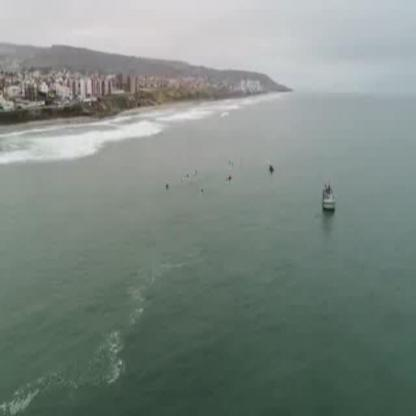Boat: (316, 184, 340, 215)
